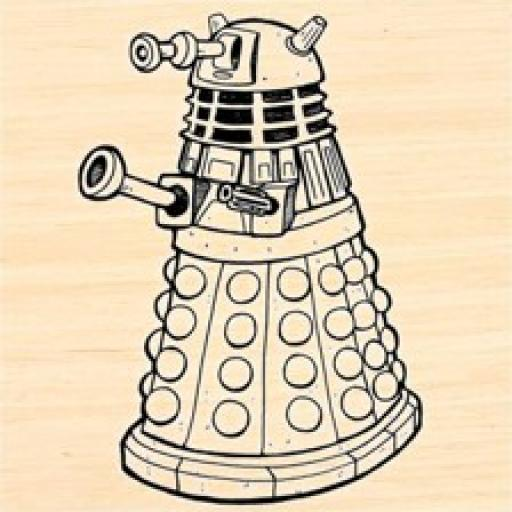dalek: (79, 10, 427, 501)
